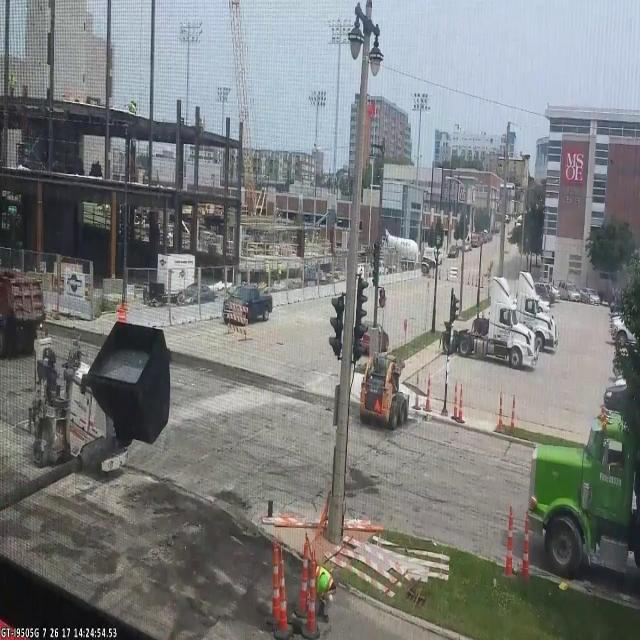Dump Truck: (524, 404, 640, 576)
Loader: (358, 350, 408, 430)
